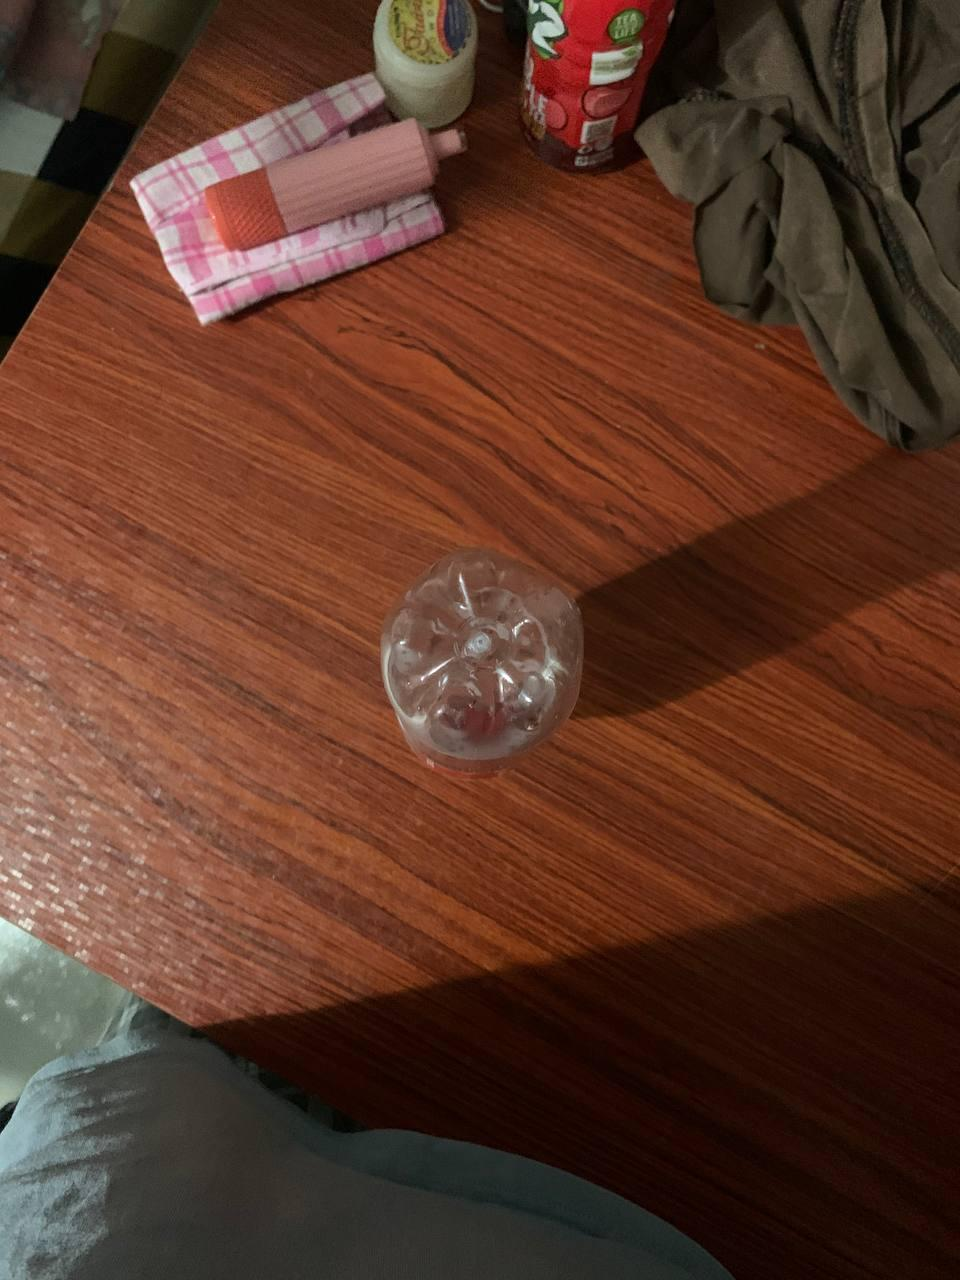plastic: (311, 516, 665, 809)
